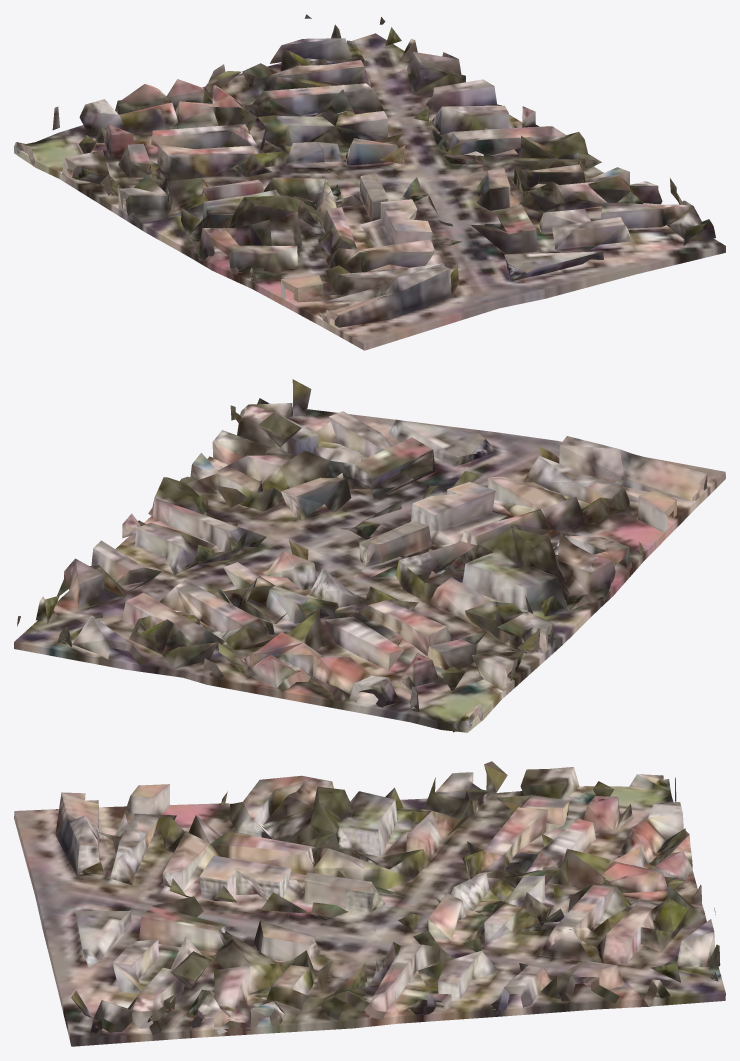
3 views of the same model, one above another, from view 1: azimuth 30°, elevation 25°; view 2: azimuth 150°, elevation 25°; view 3: azimuth 270°, elevation 25° (orthographic). The views are drawn at different scales.
Parts seen in each view (by area): view 1: Mesh_0; view 2: Mesh_0; view 3: Mesh_0.
Boxes of the visible parts, x1,y1,x2,y2 form: Mesh_0: [14, 14, 725, 350]; Mesh_0: [14, 379, 725, 732]; Mesh_0: [14, 761, 725, 1046].
Bounding box in the file's own units: 266 × 34.44 × 330.
Materials: 2 (2 with a texture image).
